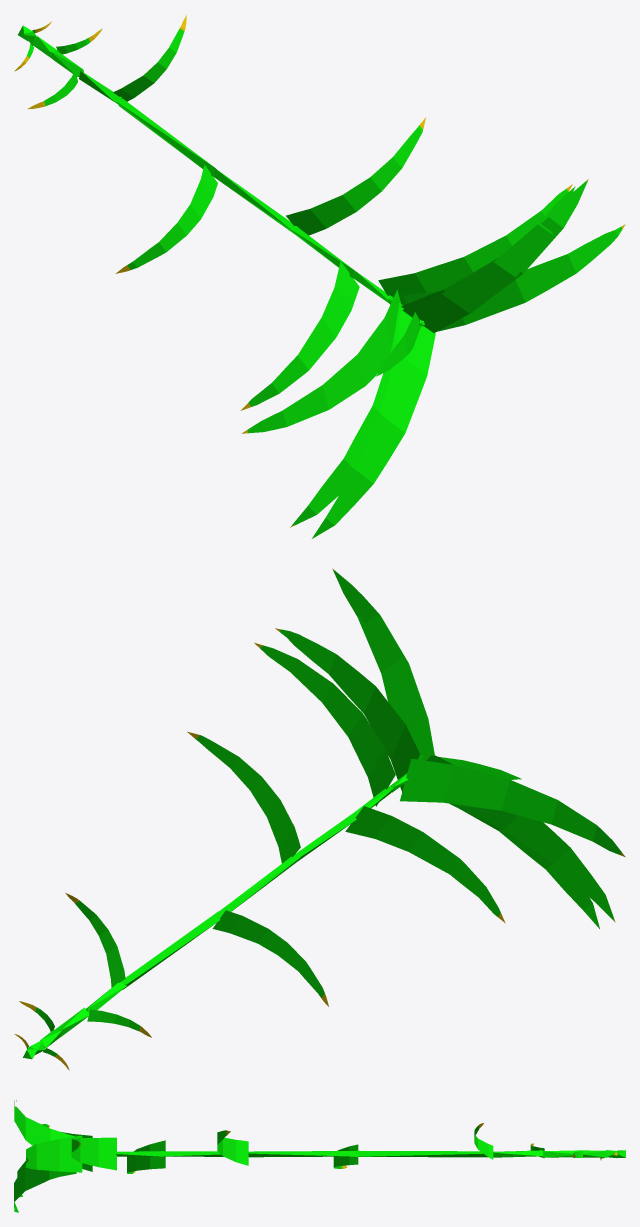
The model's file is usm_20_2.5D_2018-10-10_1.obj.
3 views of the same model, one above another, from view 1: azimuth 30°, elevation 25°; view 2: azimuth 150°, elevation 25°; view 3: azimuth 270°, elevation 25° (orthographic). The views are drawn at different scales.
Parts seen in each view (by area): view 1: vid_30, vid_32, vid_22, vid_24, vid_20, vid_18, vid_16, vid_26, vid_14, vid_28, vid_12, vid_13 (+2 smaller); view 2: vid_22, vid_24, vid_20, vid_28, vid_18, vid_26, vid_16, vid_14, vid_30, vid_12, vid_13, vid_32 (+1 smaller); view 3: vid_24, vid_20, vid_28, vid_13, vid_30, vid_18, vid_16, vid_15, vid_14, vid_17, vid_11, vid_12 (+3 smaller).
Boxes of the visible parts, bbox=[...] form: vid_30: bbox=[312, 306, 435, 538]; vid_32: bbox=[402, 186, 575, 333]; vid_22: bbox=[247, 290, 400, 433]; vid_24: bbox=[403, 226, 622, 331]; vid_20: bbox=[378, 188, 568, 305]; vid_18: bbox=[248, 261, 359, 406]; vid_16: bbox=[286, 125, 422, 235]; vid_26: bbox=[292, 303, 402, 525]; vid_14: bbox=[127, 164, 217, 269]; vid_28: bbox=[401, 181, 587, 312]; vid_12: bbox=[113, 28, 184, 101]; vid_13: bbox=[115, 98, 215, 176]; vid_22: bbox=[400, 758, 621, 855]; vid_24: bbox=[280, 629, 419, 791]; vid_20: bbox=[260, 645, 395, 806]; vid_28: bbox=[333, 570, 433, 760]; vid_18: bbox=[345, 806, 500, 916]; vid_26: bbox=[426, 755, 613, 919]; vid_16: bbox=[196, 735, 300, 863]; vid_14: bbox=[212, 910, 324, 997]; vid_30: bbox=[434, 755, 599, 928]; vid_12: bbox=[75, 900, 125, 987]; vid_13: bbox=[121, 911, 221, 989]; vid_32: bbox=[343, 578, 434, 755]; vid_24: bbox=[26, 1135, 82, 1172]; vid_20: bbox=[71, 1137, 116, 1170]; vid_28: bbox=[14, 1100, 74, 1145]; vid_13: bbox=[355, 1150, 487, 1157]; vid_30: bbox=[14, 1135, 73, 1212]; vid_18: bbox=[127, 1140, 165, 1173]; vid_16: bbox=[217, 1130, 248, 1165]; vid_15: bbox=[248, 1151, 355, 1157]; vid_14: bbox=[333, 1144, 358, 1168]; vid_17: bbox=[160, 1151, 223, 1156]; vid_11: bbox=[493, 1150, 542, 1157]; vid_12: bbox=[474, 1125, 493, 1159].
Bounding box in the file's own units: 133 × 102 × 273.
